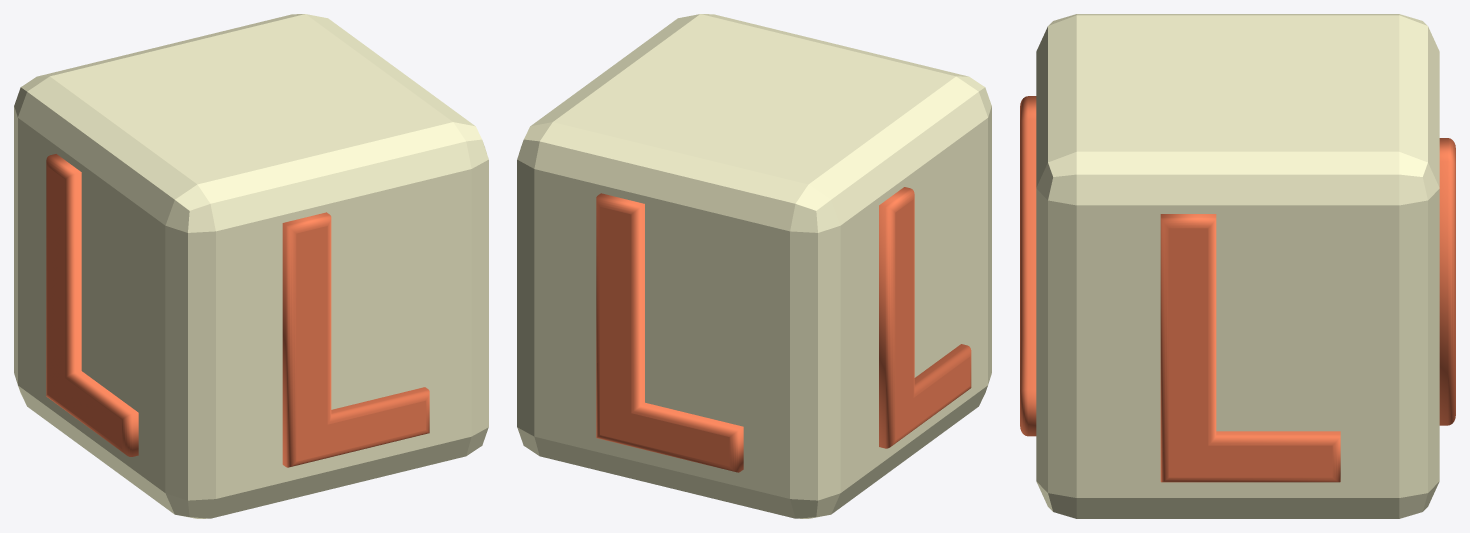
The picture shows the model from 3 angles, left to right: view 1: azimuth 30°, elevation 25°; view 2: azimuth 150°, elevation 25°; view 3: azimuth 270°, elevation 25°; orthographic projection. The views are drawn at different scales.
Parts seen in each view (by area): view 1: L; view 2: L; view 3: L.
Part boxes in pixels (bbox=[...]): L: bbox=[14, 14, 488, 518]; L: bbox=[517, 14, 991, 518]; L: bbox=[1020, 14, 1455, 518].
Bounding box in the file's own units: 216 × 200 × 216.
